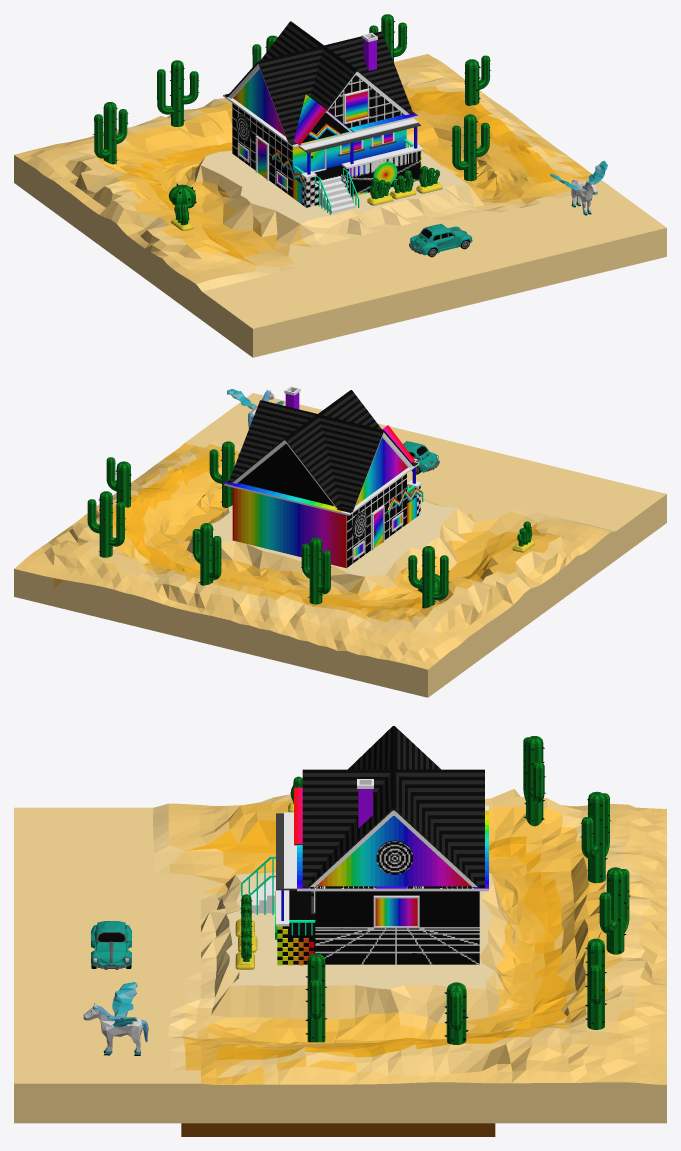
3 views of the same model, one above another, from view 1: azimuth 30°, elevation 25°; view 2: azimuth 150°, elevation 25°; view 3: azimuth 270°, elevation 25° (orthographic). The views are drawn at different scales.
Visible parts, largest first — view 1: Cube.001, Cube.1320, Cylinder.044, Cylinder.037, Cylinder.045, VEHICLES_VOLKSWAGEN, Cylinder.038, ANIMAL_PEGASO, Cylinder.042, Cylinder.039, Cylinder.041; view 2: Cube.001, Cube.1320, Cylinder.042, Cylinder.045, Cylinder.044, Cylinder.043, Cylinder.037, Cylinder.038, VEHICLES_VOLKSWAGEN, ANIMAL_PEGASO; view 3: Cube.001, Cube.1320, UNDERGROUND_ART_PIECE_VAN_GOGH, Cylinder.043, Cylinder.044, ANIMAL_PEGASO, VEHICLES_VOLKSWAGEN, Cylinder.045, Cylinder.037, Cylinder.042, Cylinder.038, Cylinder.041.
Boxes of the visible parts, left/top/right/bottom form: Cube.001: left=14, top=54, right=666, bottom=357; Cube.1320: left=223, top=21, right=423, bottom=214; Cylinder.044: left=157, top=60, right=199, bottom=126; Cylinder.037: left=451, top=114, right=490, bottom=181; Cylinder.045: left=93, top=102, right=128, bottom=164; VEHICLES_VOLKSWAGEN: left=409, top=224, right=472, bottom=257; Cylinder.038: left=464, top=55, right=490, bottom=105; ANIMAL_PEGASO: left=550, top=160, right=607, bottom=215; Cylinder.042: left=369, top=14, right=407, bottom=62; Cylinder.039: left=367, top=178, right=393, bottom=205; Cylinder.041: left=416, top=166, right=442, bottom=193; Cube.001: left=14, top=393, right=666, bottom=697; Cube.1320: left=224, top=386, right=423, bottom=568; Cylinder.042: left=87, top=491, right=125, bottom=557; Cylinder.045: left=408, top=546, right=449, bottom=608; Cylinder.044: left=301, top=537, right=331, bottom=604; Cylinder.043: left=192, top=523, right=221, bottom=585; Cylinder.037: left=209, top=441, right=239, bottom=507; Cylinder.038: left=106, top=457, right=131, bottom=507; VEHICLES_VOLKSWAGEN: left=403, top=441, right=439, bottom=474; ANIMAL_PEGASO: left=227, top=389, right=284, bottom=428; Cube.001: left=14, top=789, right=666, bottom=1123; Cube.1320: left=241, top=726, right=488, bottom=965; UNDERGROUND_ART_PIECE_VAN_GOGH: left=181, top=1123, right=495, bottom=1136; Cylinder.043: left=598, top=867, right=630, bottom=954; Cylinder.044: left=580, top=791, right=610, bottom=883; ANIMAL_PEGASO: left=83, top=982, right=148, bottom=1055; VEHICLES_VOLKSWAGEN: left=91, top=921, right=131, bottom=969; Cylinder.045: left=523, top=736, right=545, bottom=826; Cylinder.037: left=305, top=953, right=327, bottom=1042; Cylinder.042: left=585, top=938, right=606, bottom=1029; Cylinder.038: left=444, top=982, right=468, bottom=1044; Cylinder.041: left=235, top=927, right=254, bottom=969.
Bounding box in the file's own units: 4002 × 1752 × 4001.
27 materials, 5 textured.
